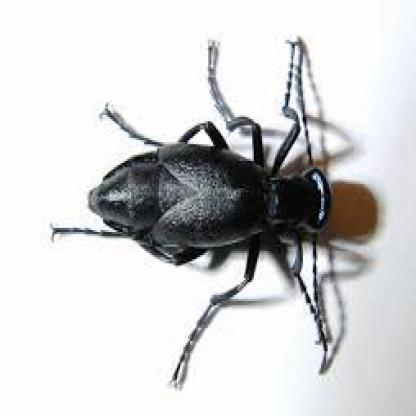blister beetle: (52, 49, 332, 286)
